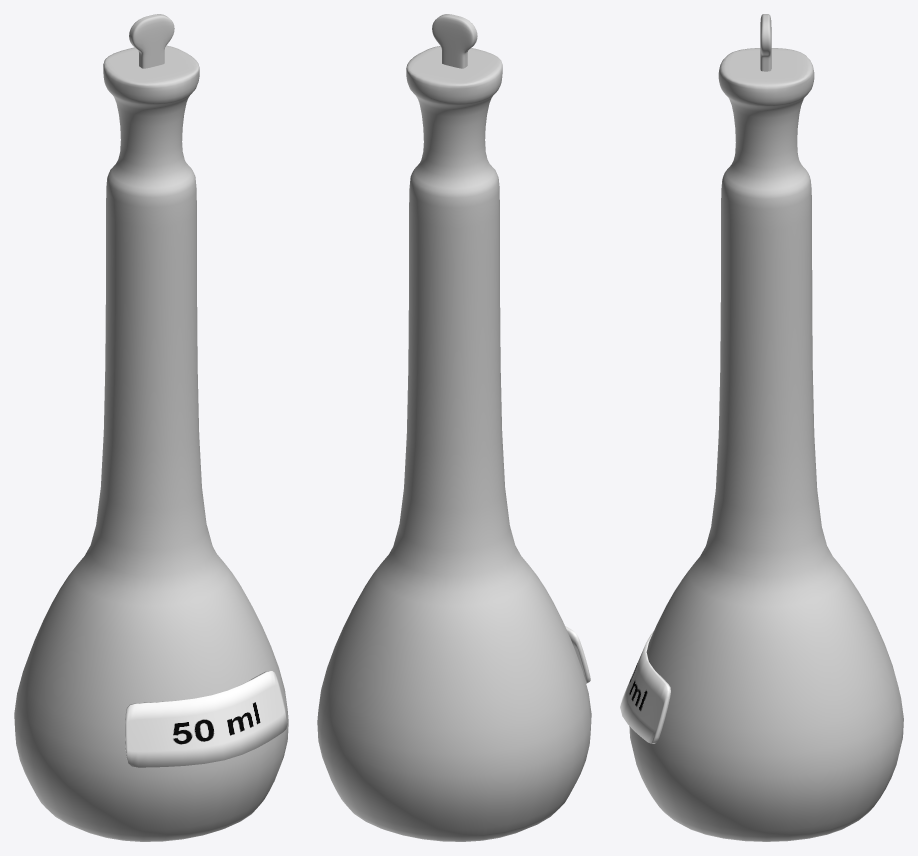
File: Labu takar 50ml.fbx
The picture shows the model from 3 angles, left to right: view 1: azimuth 30°, elevation 25°; view 2: azimuth 150°, elevation 25°; view 3: azimuth 270°, elevation 25°; orthographic projection.
Visible parts, largest first — view 1: Cube.061, Cube.109; view 2: Cube.061; view 3: Cube.061, Cube.109.
Part boxes in pixels (box(x1,y1,x2,y2)): Cube.061: box(14, 14, 288, 841); Cube.109: box(125, 671, 287, 767); Cube.061: box(317, 14, 591, 841); Cube.061: box(629, 14, 903, 841); Cube.109: box(620, 631, 670, 743).
Size of the model in its own units: 4.24 by 13.39 by 4.38.
Materials: 2 (1 with a texture image).
